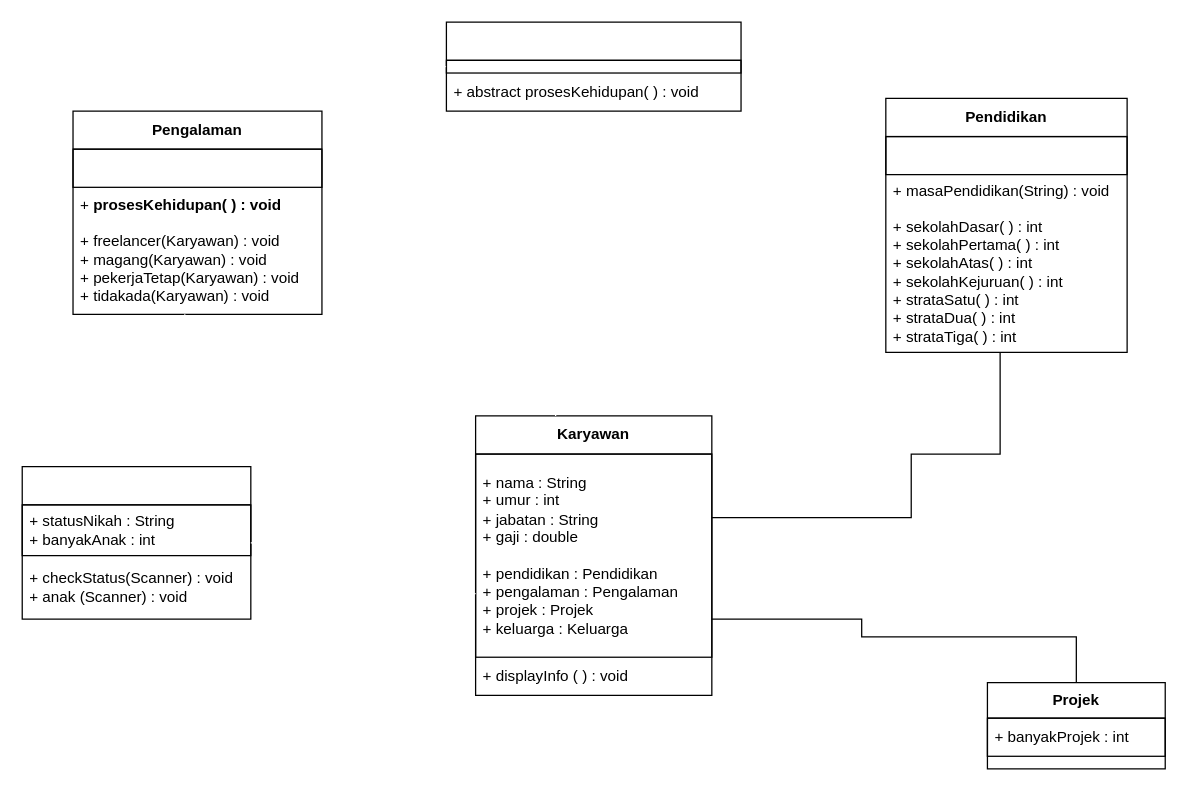
This 1187x791 diagram has some shape labels left out. Each missing label, with the box of its shape:
+ jenisPekerjaan : String: (72, 148, 322, 187)
+ tingkatPendidikan : int: (885, 135, 1127, 175)
Kehidupan << abstract >>: (445, 21, 741, 111)
Keluarga: (21, 465, 251, 619)
